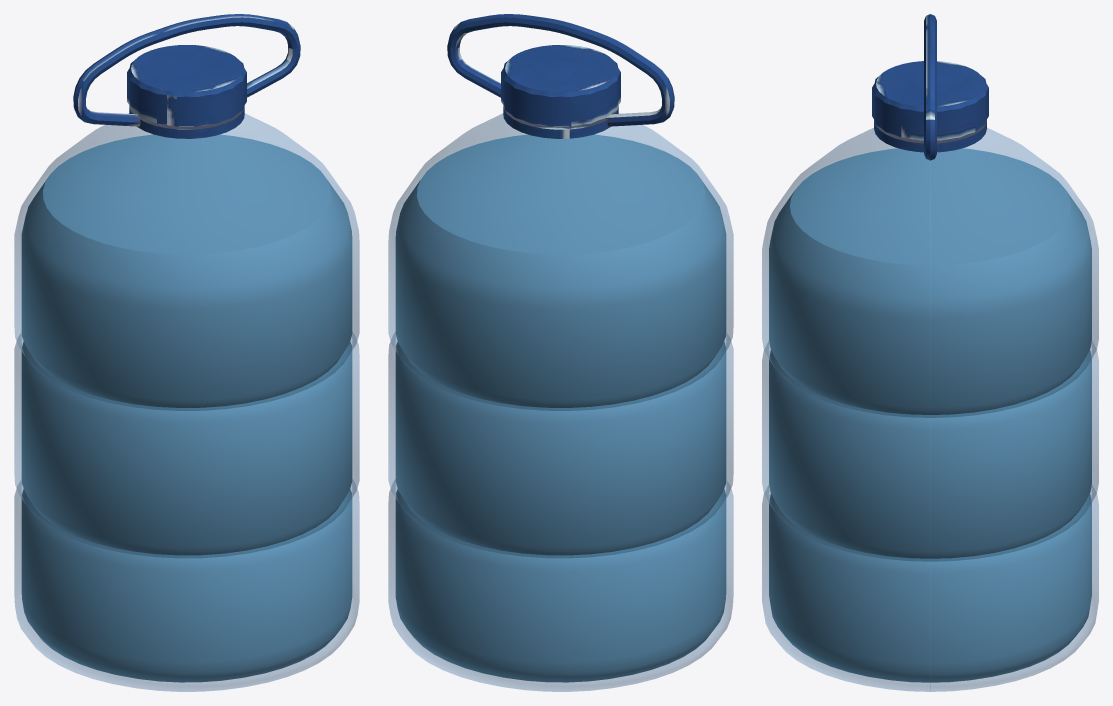
Rendered from galao_agua.glb.
The picture shows the model from 3 angles, left to right: view 1: azimuth 30°, elevation 25°; view 2: azimuth 150°, elevation 25°; view 3: azimuth 270°, elevation 25°; orthographic projection. The views are drawn at different scales.
Visible parts, largest first — view 1: casca, agua, tampa; view 2: casca, agua, tampa; view 3: casca, agua, tampa.
Boxes of the visible parts, <box> form: casca: <box>14,113,359,691</box>; agua: <box>21,134,352,682</box>; tampa: <box>73,14,300,138</box>; casca: <box>388,113,733,691</box>; agua: <box>395,134,726,682</box>; tampa: <box>447,14,674,138</box>; casca: <box>762,128,1098,691</box>; agua: <box>769,148,1091,682</box>; tampa: <box>872,14,988,160</box>.
Bounding box in the file's own units: 0.17 × 0.3297 × 0.17.
Materials: 3 (1 with a texture image).
